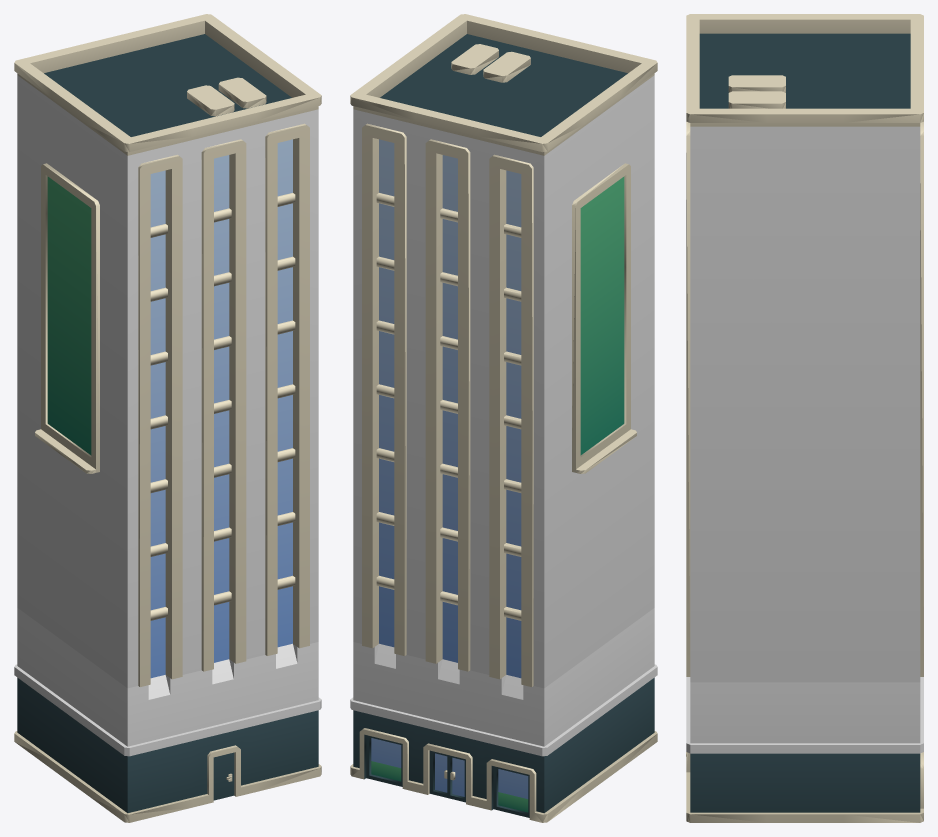
File: building-skyscraper-e.glb
The picture shows the model from 3 angles, left to right: view 1: azimuth 30°, elevation 25°; view 2: azimuth 150°, elevation 25°; view 3: azimuth 270°, elevation 25°; orthographic projection. The views are drawn at different scales.
Visible parts, largest first — view 1: building-skyscraper-e; view 2: building-skyscraper-e; view 3: building-skyscraper-e.
Part boxes in pixels (x1,y1,x2,y2): building-skyscraper-e: (14, 14, 321, 822); building-skyscraper-e: (350, 14, 657, 822); building-skyscraper-e: (686, 14, 923, 822).
Bounding box in the file's own units: 12.95 × 40.8 × 12.42.
